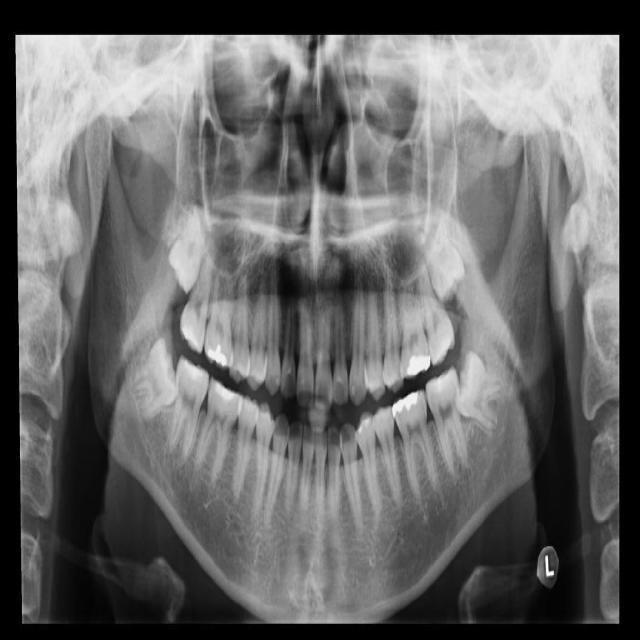impacted tooth: (125, 336, 177, 421), (455, 349, 507, 432), (424, 209, 465, 304), (169, 207, 205, 291), (392, 393, 417, 414), (407, 356, 429, 375), (208, 345, 228, 363), (215, 383, 235, 400)
